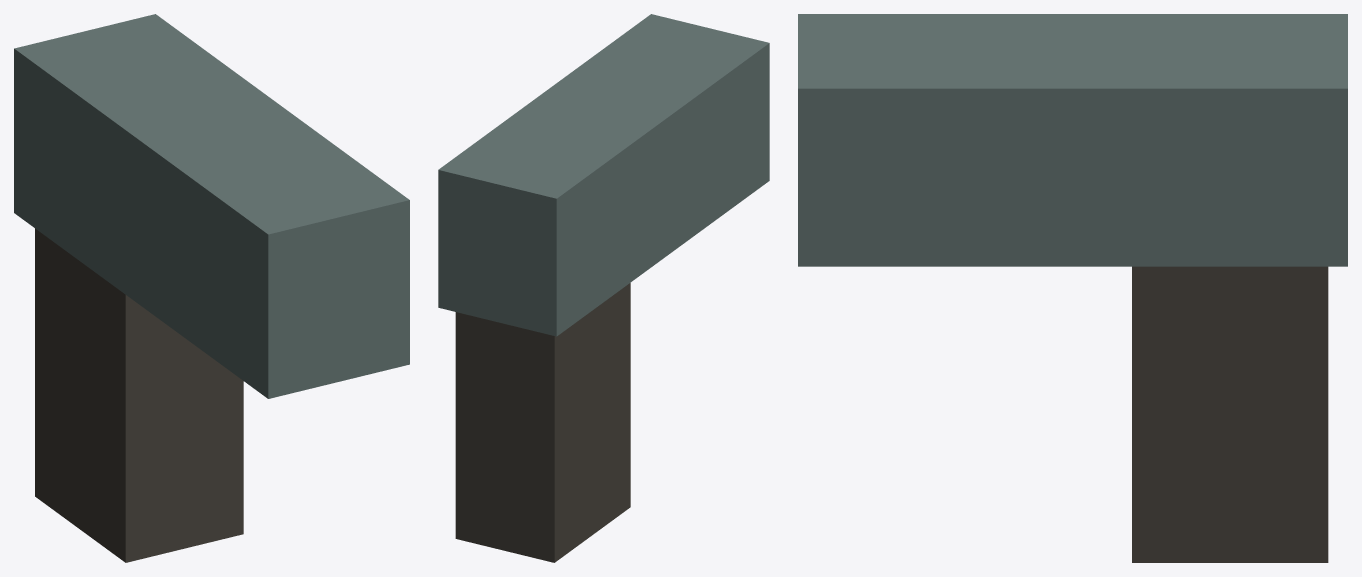
File: weapon_pistol_lod2.obj
3 views of the same model, side by side, from view 1: azimuth 30°, elevation 25°; view 2: azimuth 150°, elevation 25°; view 3: azimuth 270°, elevation 25° (orthographic). The views are drawn at different scales.
Visible parts, largest first — view 1: weapon_pistol_lod2; view 2: weapon_pistol_lod2; view 3: weapon_pistol_lod2.
Boxes of the visible parts, x1,y1,x2,y2 form: weapon_pistol_lod2: [14, 14, 409, 562]; weapon_pistol_lod2: [438, 14, 769, 562]; weapon_pistol_lod2: [798, 14, 1347, 562].
Bounding box in the file's own units: 0.09 × 0.27 × 0.28.
Materials: 1 (1 with a texture image).
